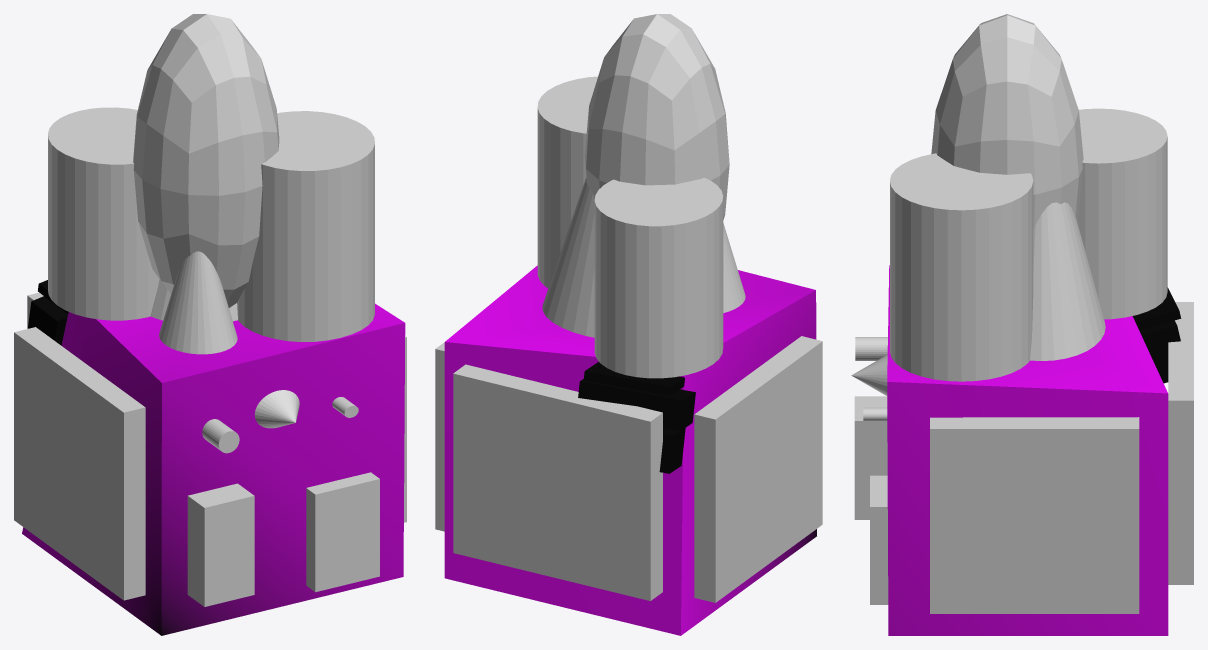
Rendered from calignea.fbx.
3 renders of one model, left to right at view 1: azimuth 30°, elevation 25°; view 2: azimuth 150°, elevation 25°; view 3: azimuth 270°, elevation 25°, orthographic. The views are drawn at different scales.
Visible parts, largest first — view 1: Cube, Quadsphere, Cube.004, Cylinder, Cylinder.001, Cube.002, Cube.001, Cone.001, Cone.002, Cylinder.002, Cone; view 2: Cube.005, Cube, Cube.004, Cylinder.001, Quadsphere, Cylinder, Cone, Cube.003, Cone.001; view 3: Cube.003, Cube, Cylinder, Quadsphere, Cylinder.001, Cone, Cube.005, Cube.001, Cube.002, Cone.002, Cylinder.002.
Part boxes in pixels (<box>): Cube: <box>22,280,405,635</box>; Quadsphere: <box>133,14,279,307</box>; Cube.004: <box>14,327,145,600</box>; Cylinder: <box>237,111,374,341</box>; Cylinder.001: <box>48,107,159,320</box>; Cube.002: <box>306,472,379,592</box>; Cube.001: <box>187,483,254,606</box>; Cone.001: <box>159,251,237,354</box>; Cone.002: <box>254,390,299,428</box>; Cylinder.002: <box>202,419,239,453</box>; Cone: <box>150,279,237,321</box>; Cube.005: <box>453,364,662,600</box>; Cube: <box>444,265,816,635</box>; Cube.004: <box>694,336,822,602</box>; Cylinder.001: <box>594,177,723,378</box>; Quadsphere: <box>584,14,729,219</box>; Cylinder: <box>537,76,597,287</box>; Cone: <box>542,178,594,337</box>; Cube.003: <box>435,342,444,531</box>; Cone.001: <box>723,223,745,312</box>; Cube.003: <box>930,417,1139,613</box>; Cube: <box>887,265,1181,635</box>; Cylinder: <box>890,153,1033,381</box>; Quadsphere: <box>931,14,1083,228</box>; Cylinder.001: <box>1077,108,1167,319</box>; Cone: <box>1030,202,1105,360</box>; Cube.005: <box>1168,302,1193,584</box>; Cube.001: <box>854,396,887,519</box>; Cube.002: <box>870,475,888,604</box>; Cone.002: <box>851,354,887,395</box>; Cylinder.002: <box>855,337,887,360</box>.
Size of the model in its own units: 238 by 437 by 245.
